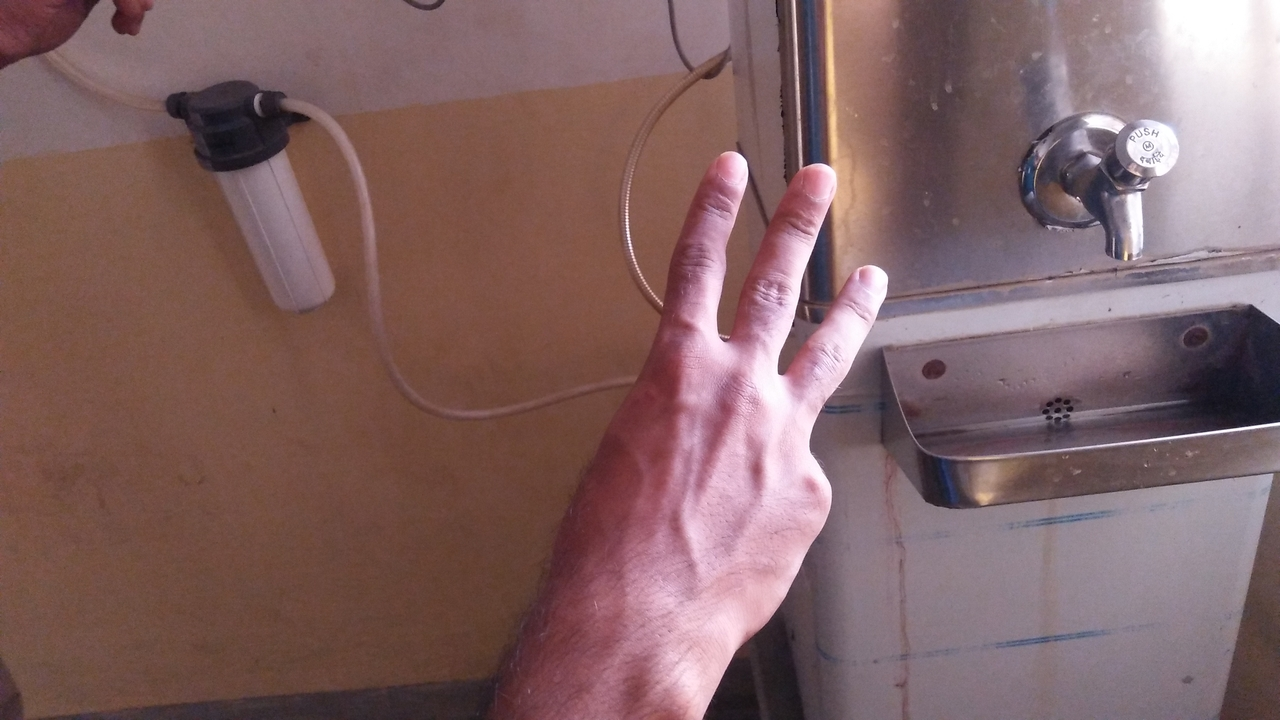fingertip: (788, 148, 848, 206), (696, 142, 758, 198), (840, 254, 898, 306)
